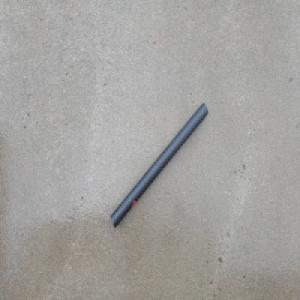LuggagePart: (110, 102, 208, 229)
